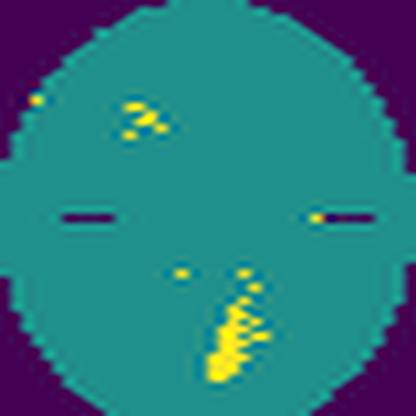Loc: (200, 292, 276, 383), (120, 98, 170, 143)
